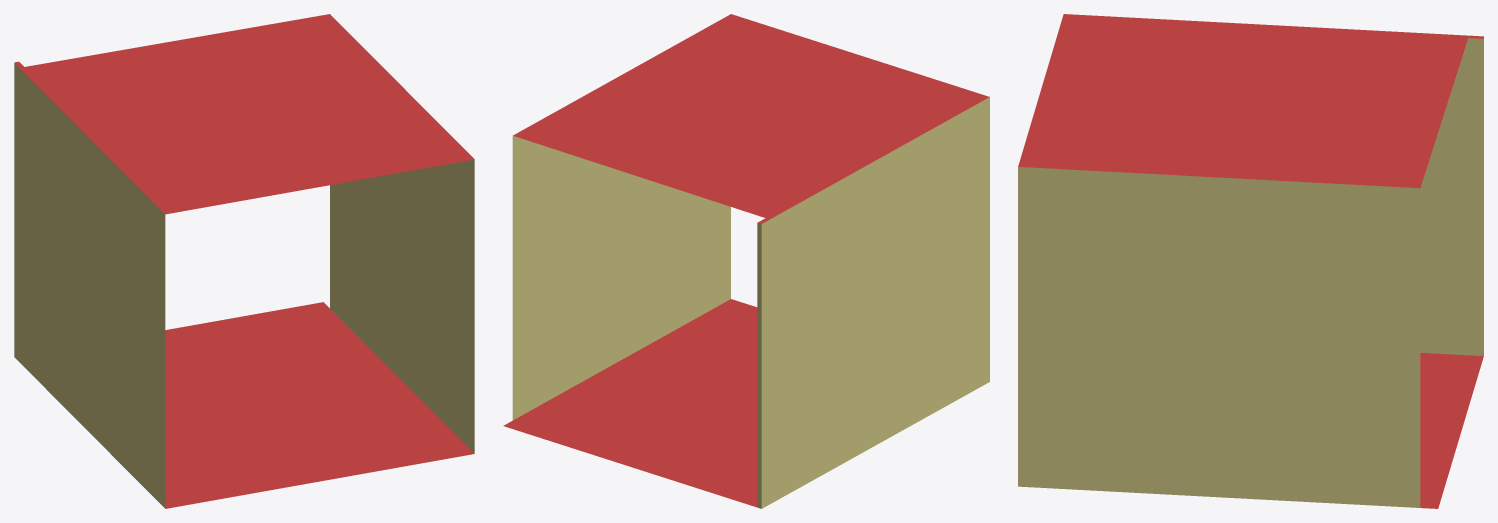
The picture shows the model from 3 angles, left to right: view 1: azimuth 30°, elevation 25°; view 2: azimuth 150°, elevation 25°; view 3: azimuth 270°, elevation 25°; orthographic projection. The views are drawn at different scales.
Size of the model in its own units: 5.96 by 6.69 by 5.07.
